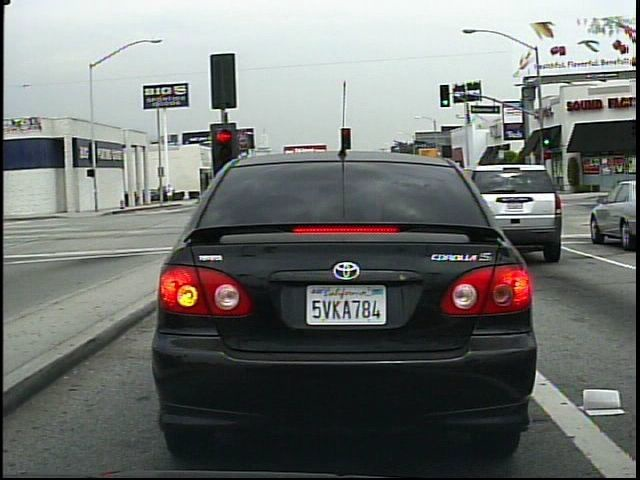person: (518, 166, 533, 198), (165, 183, 176, 206)
